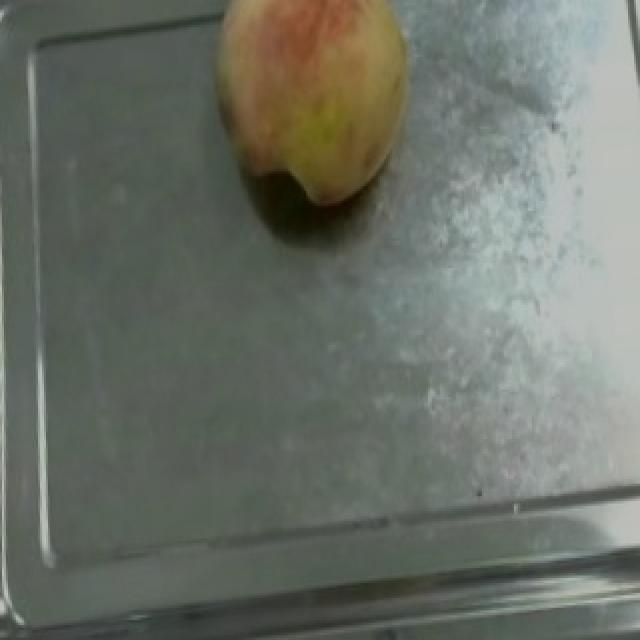Fruit: (190, 0, 430, 223)
